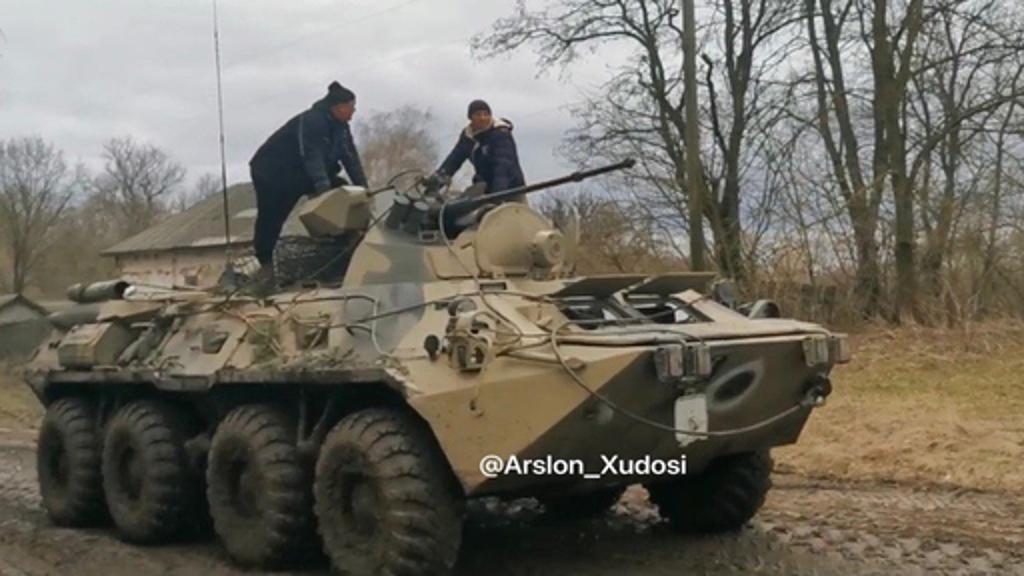APC-IFV: (0, 150, 846, 572)
